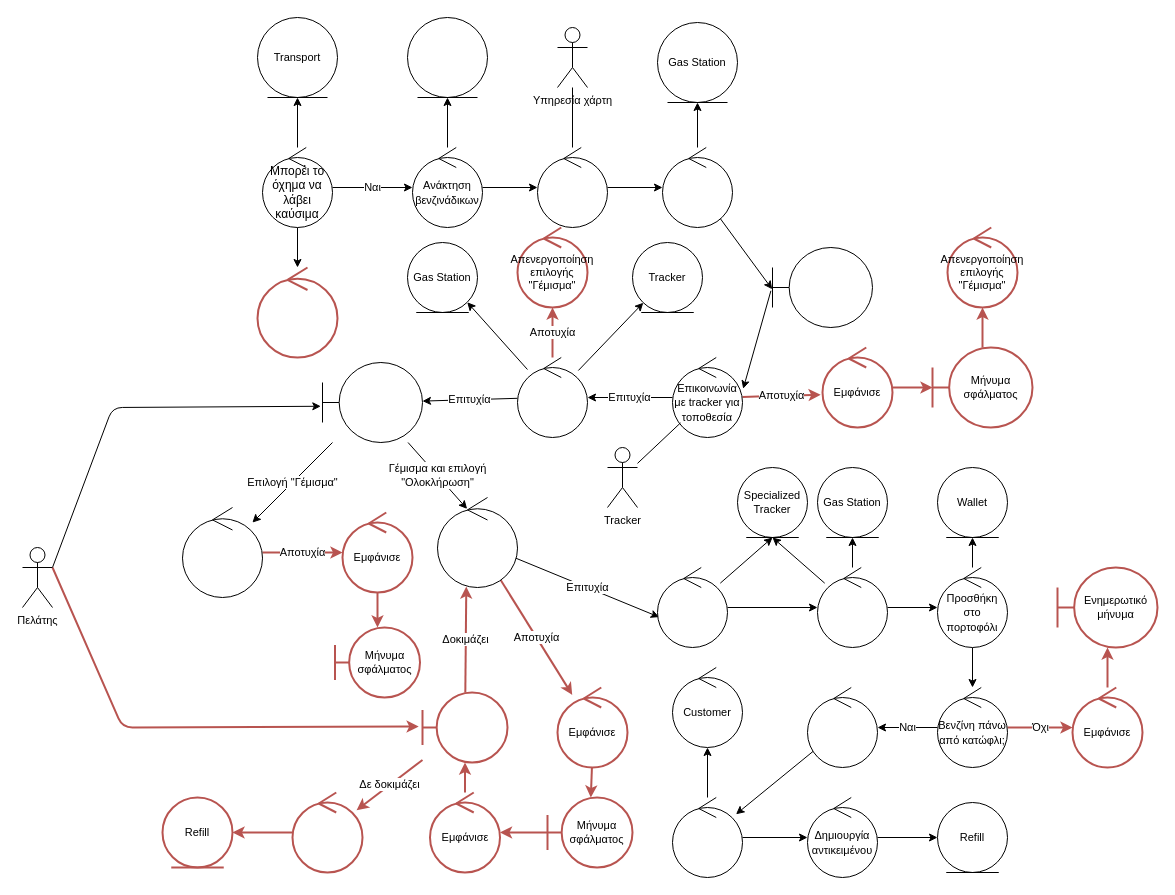
Some shapes in this 1175 by 895 pixel diagram are drawn without their labels. Each missing label, with the box of its shape:
Αναζήτηση πλησιέστερου βενζινάδικου: (516, 356, 588, 438)
Απόκρυψη βενζινάδικων και επιλογής ανεφοδιασμού: (256, 266, 338, 358)
Βάση Δεδομένων: (406, 16, 488, 98)
Εμφάνισε χάρτη με βενζινάδικα: (662, 146, 732, 228)
Επικοινωνία με tracker για αρχικό επίπεδο βενζίνης: (182, 506, 262, 598)
Επικοινωνία με tracker για τελικό επίπεδο βενζίνης: (436, 496, 518, 588)
Επικοινωνία με υπηρεσία χάρτη: (536, 146, 608, 228)
Επιλογή "Δοκίμασε Ξανά": (421, 691, 508, 763)
Επιστροφή πόντων στον πελάτη: (672, 796, 742, 878)
Οθόνη μετακίνησης: (322, 362, 422, 442)
Τερματισμός ανεφοδιασμού: (291, 791, 363, 873)
Υπολογισμός βενζίνης: (656, 566, 728, 648)
Υπολογισμός κόστους βενζίνης: (816, 566, 888, 648)
Υπολογισμός πόντων: (806, 686, 878, 768)
Χάρτης με βενζινάδικα: (772, 246, 872, 328)
